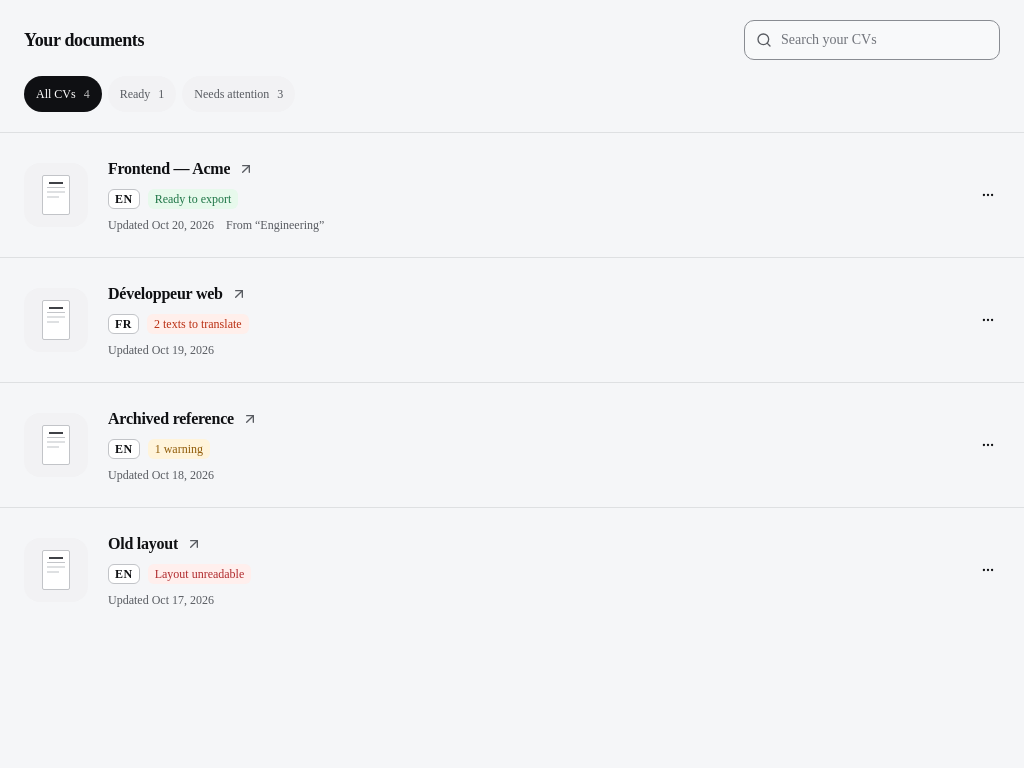
it: CV library › keeps unreadable layouts and warnings in needs attention, separate from ready documents
This screenshot has width=1024, height=768.
Click the button "Needs attention 3" at (239, 94), box [182,76,295,112]
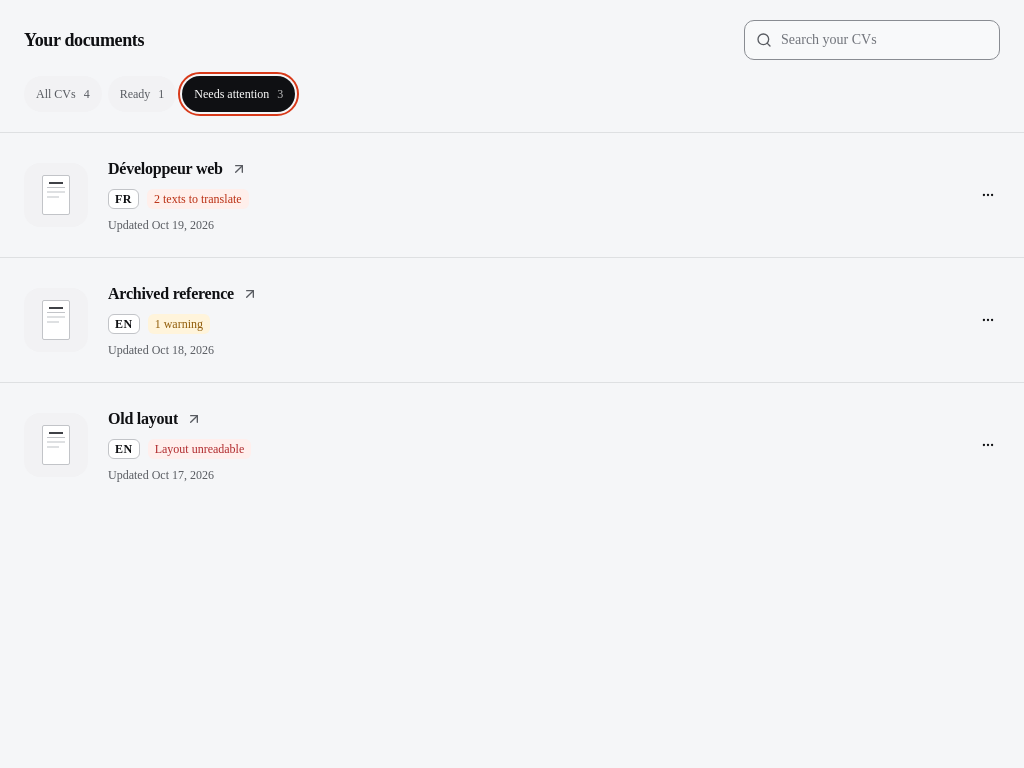
Check: the link "Old layout EN Layout unreadable Updated Oct 17, 2026" is shown, box [24,410,251,482]
Check: the number of links is 3, box [24,160,249,232]; [24,285,258,357]; [24,410,251,482]
Check: the link "Frontend — Acme" is gone
Click the button "Ready 1" at (142, 94), box [108,76,176,112]
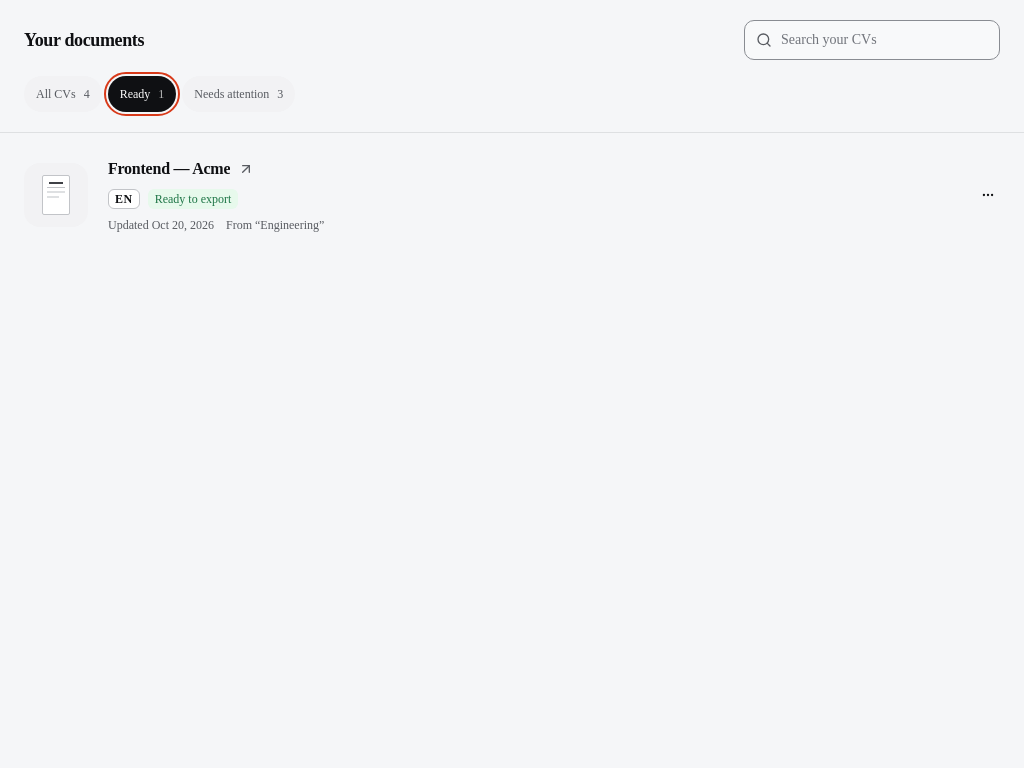
Check: the number of links is 1, box [24,160,324,232]
